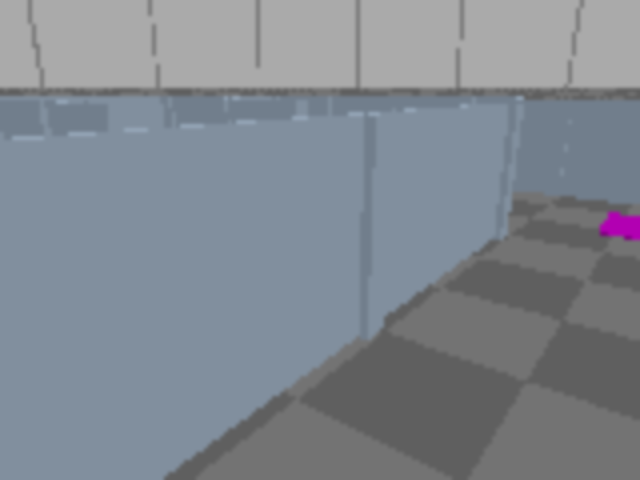goal_zone: (596, 213, 638, 254)
